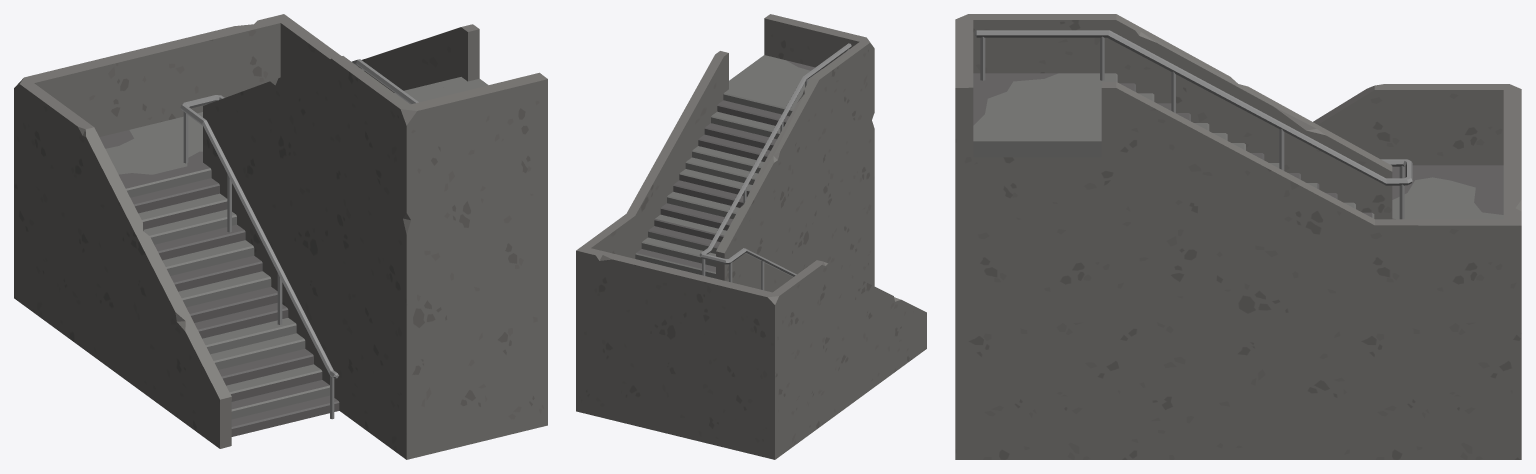
File: SM_Bld_Grandstand_Stairs_01.fbx
The picture shows the model from 3 angles, left to right: view 1: azimuth 30°, elevation 25°; view 2: azimuth 150°, elevation 25°; view 3: azimuth 270°, elevation 25°; orthographic projection. The views are drawn at different scales.
Visible parts, largest first — view 1: SM_Bld_Grandstand_Stairs_01; view 2: SM_Bld_Grandstand_Stairs_01; view 3: SM_Bld_Grandstand_Stairs_01.
Boxes of the visible parts, x1,y1,x2,y2 form: SM_Bld_Grandstand_Stairs_01: [14, 14, 547, 459]; SM_Bld_Grandstand_Stairs_01: [576, 14, 926, 459]; SM_Bld_Grandstand_Stairs_01: [955, 14, 1521, 459].
Bounding box in the file's own units: 571 × 701 × 967.
